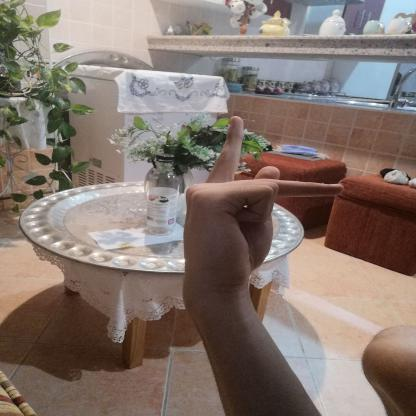DHAA: (168, 104, 355, 300)
